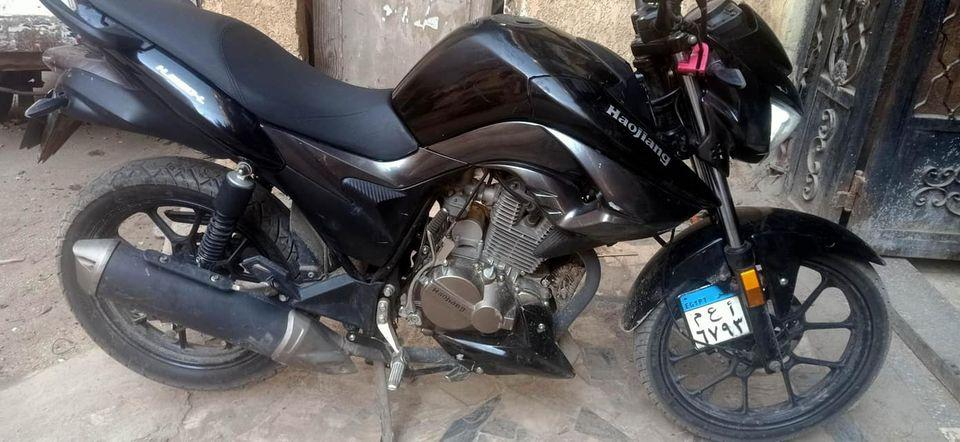License Plate: (674, 283, 751, 346)
